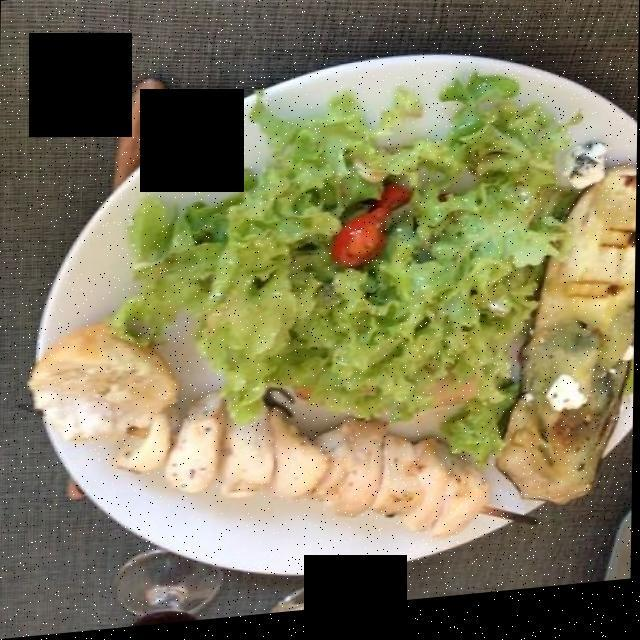bread: (41, 318, 186, 449)
cheese: (541, 148, 604, 426)
chicken: (96, 400, 504, 549)
salad: (129, 87, 566, 441)
tomato: (314, 174, 422, 269)
zucchini: (492, 161, 636, 537)
